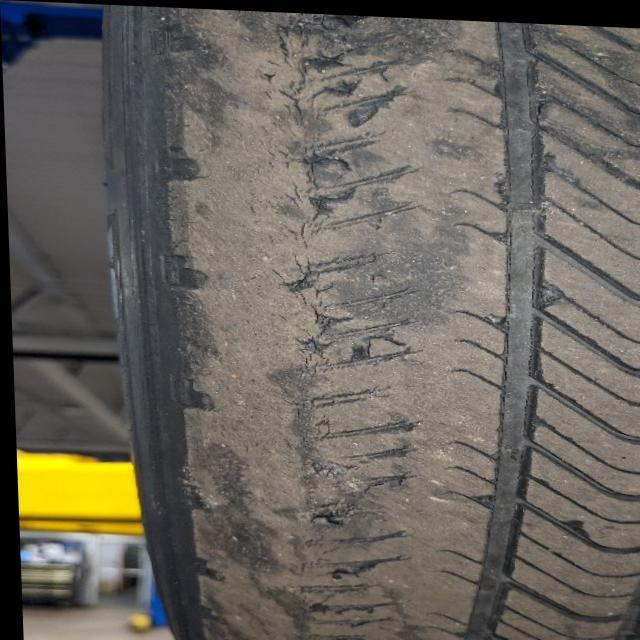Flat spots: (189, 42, 639, 639)
